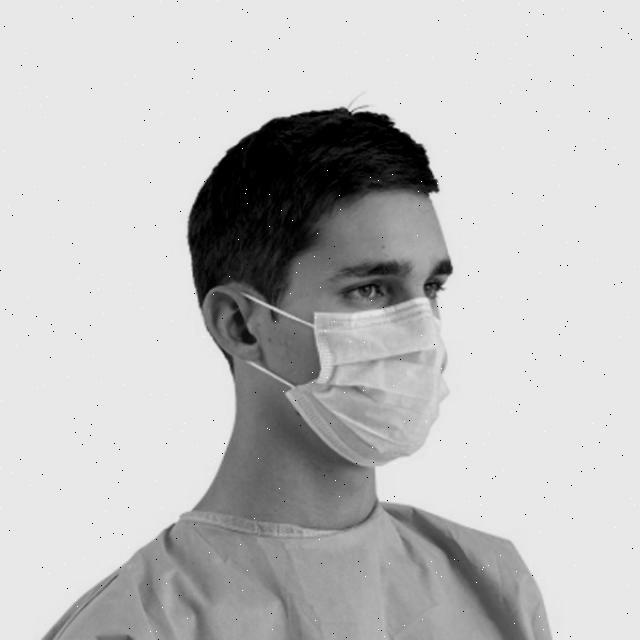fake: (276, 297, 459, 473)
real: (275, 189, 456, 474)
